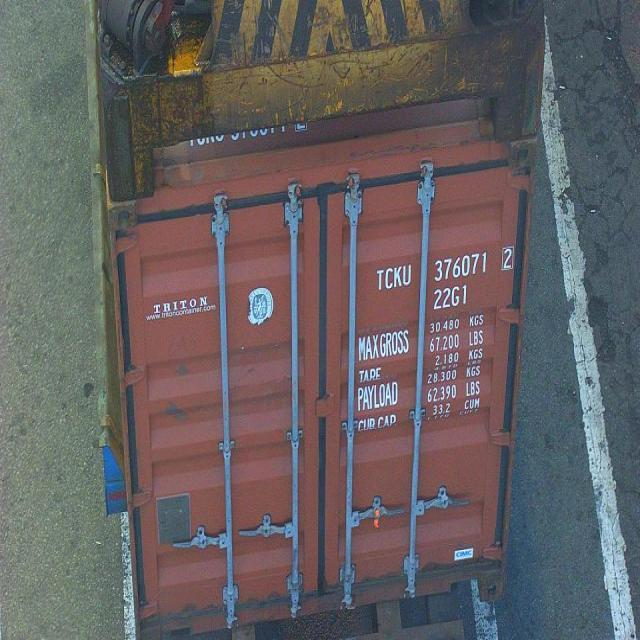ISO: (432, 286, 468, 310)
container_number: (376, 246, 514, 290)
